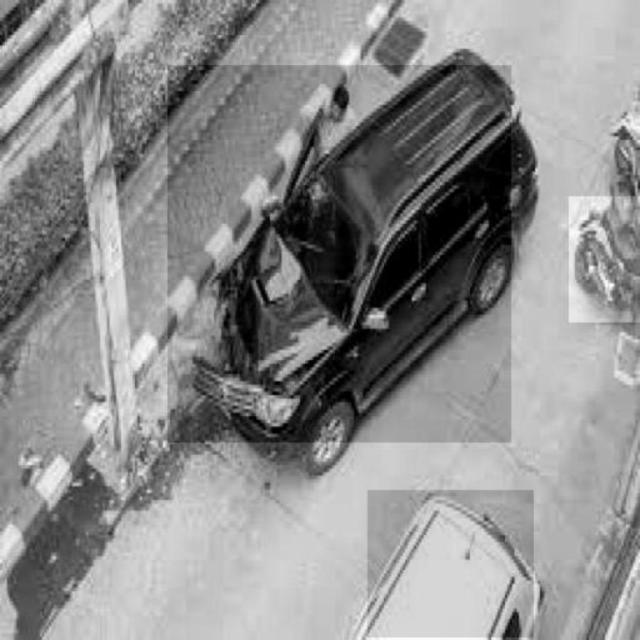accident: (167, 65, 511, 443)
vehicle: (368, 491, 534, 638), (569, 197, 640, 323)
